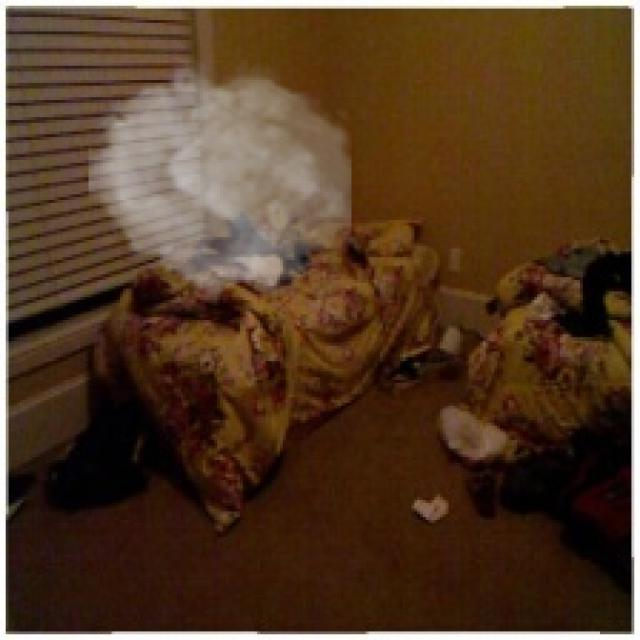smoke: (88, 57, 352, 306)
